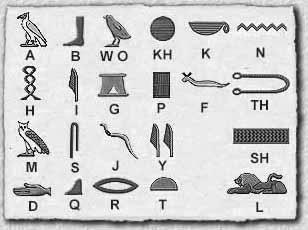Basket: (186, 18, 230, 38)
Mouth: (92, 177, 139, 195)
Owl: (14, 121, 51, 161)
Reed: (63, 65, 85, 105), (163, 120, 176, 158), (150, 122, 162, 158)
Water: (235, 21, 290, 34)
